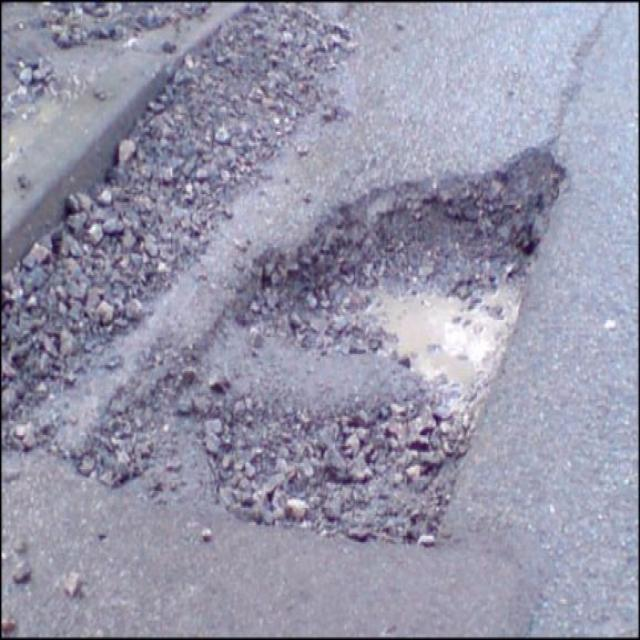pothole: (193, 137, 567, 550)
